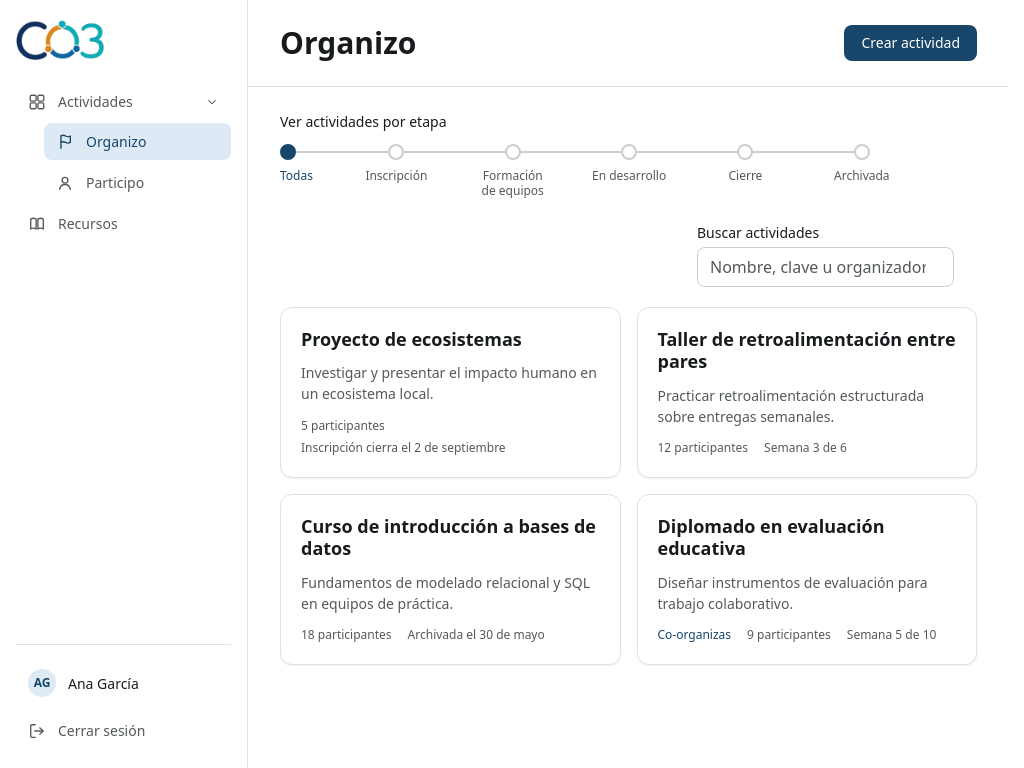
Test: PantallaMisActividades › rol="organizo" › filtra por estado al tocar su círculo, y vuelve a ver todas al tocarlo de nuevo
Expected: the heading "Proyecto de ecosistemas" is shown, [301,326,522,350]
Click the 4th button named "En desarrollo" at (629, 152), box [621,144,637,160]
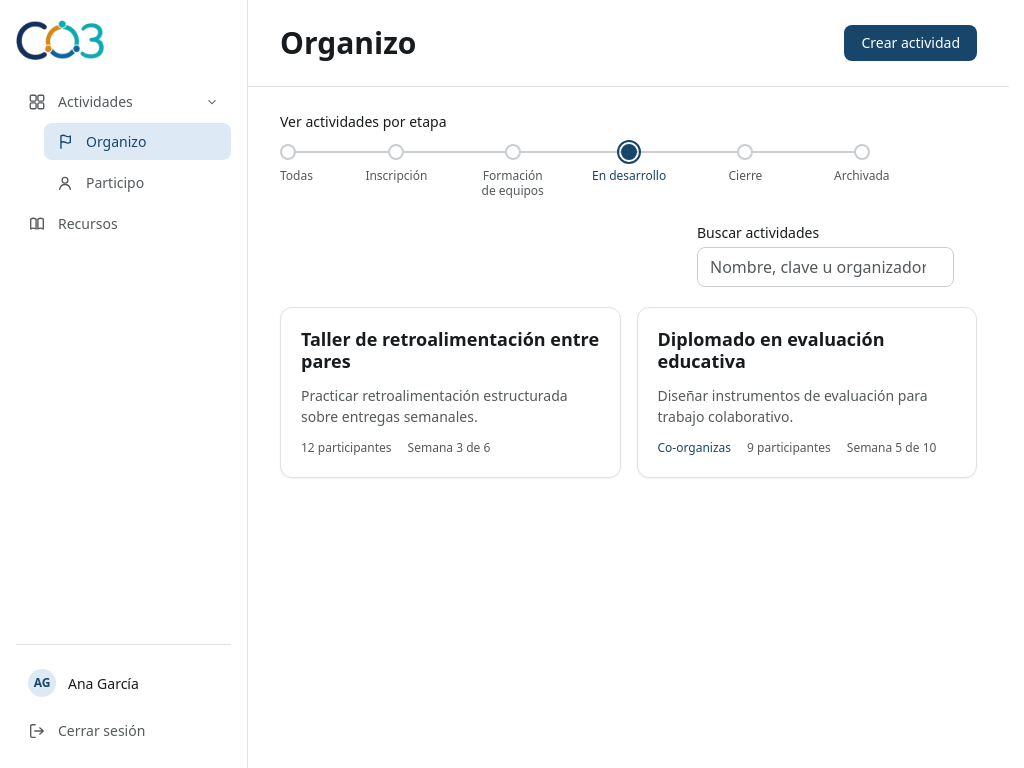
Expected: the heading "Taller de retroalimentación entre pares" is shown, [301,328,600,372]
Result: the link "Proyecto de ecosistemas" is gone
Result: the link "Curso de introducción a bases de datos" is gone
Click the 4th button named "En desarrollo" at (629, 152), box [621,144,637,160]
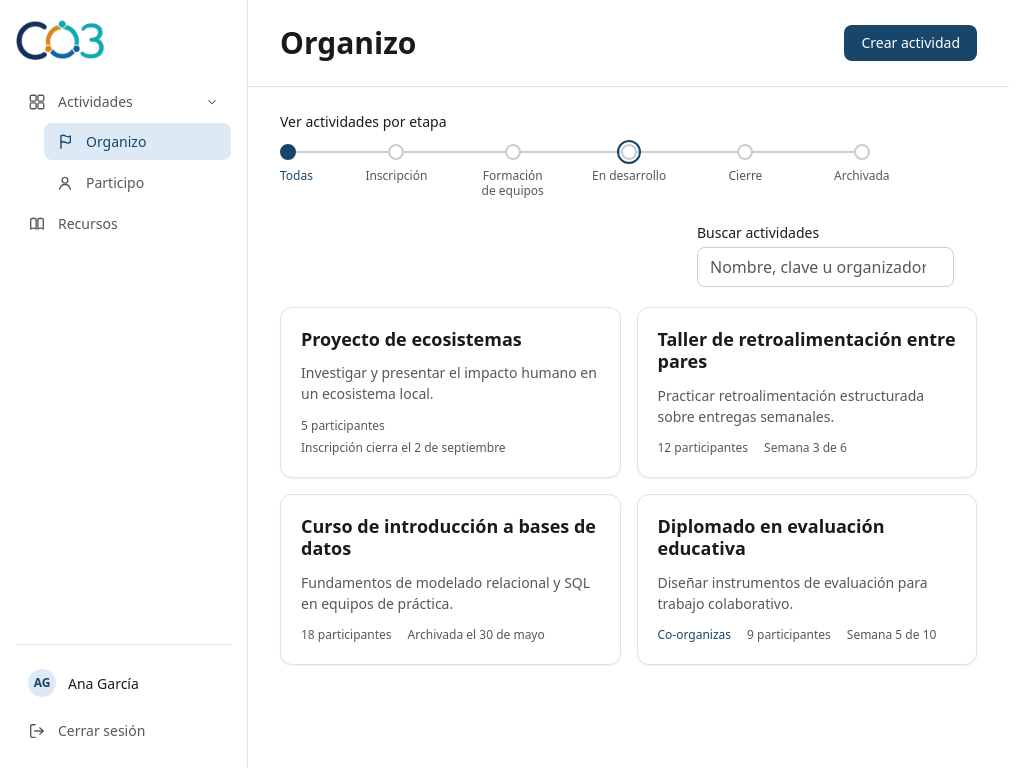
Result: the heading "Proyecto de ecosistemas" is shown at [301,326,522,350]
Result: the heading "Curso de introducción a bases de datos" is shown at [301,514,600,560]
